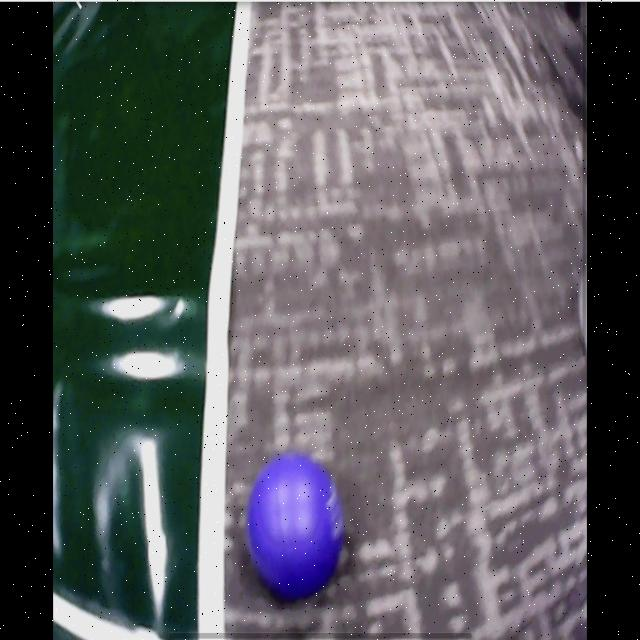ball: (246, 453, 343, 599)
